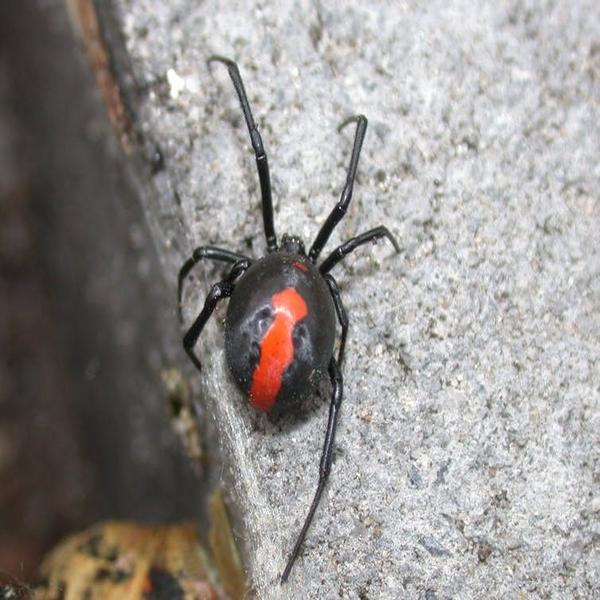Redback Spider: (177, 56, 394, 582)
